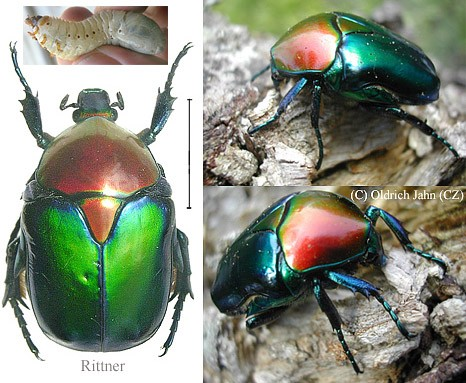Protaetia_speciosa_jousselini: (1, 39, 196, 377), (212, 189, 426, 373), (250, 6, 444, 173)
